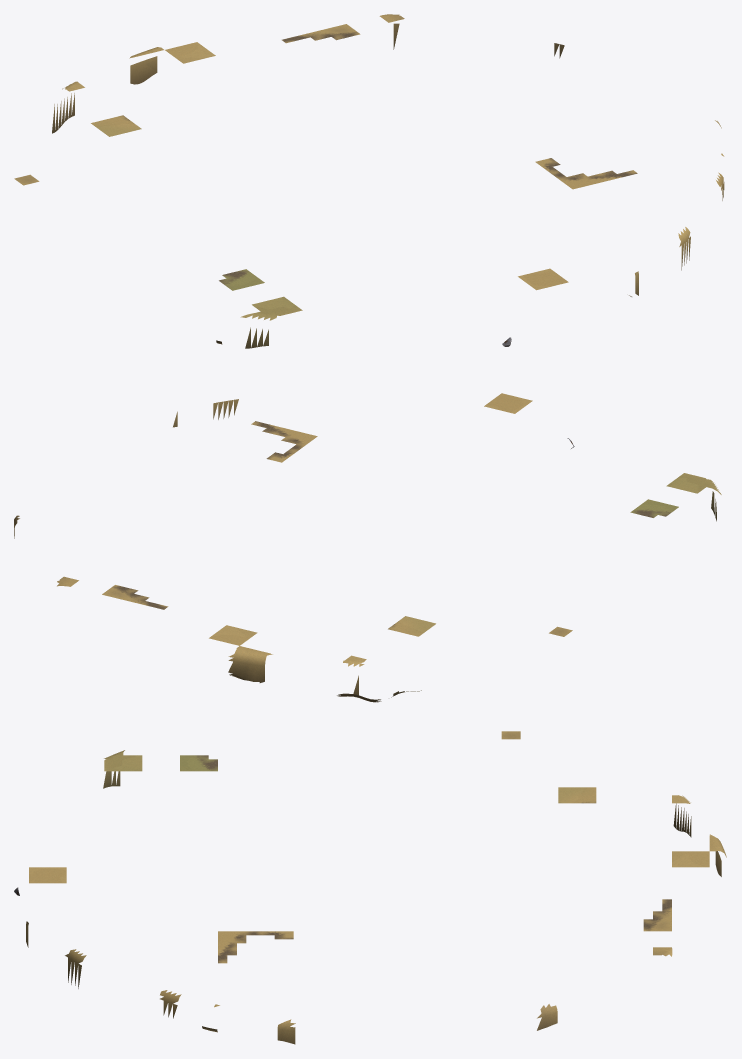
3 views of the same model, one above another, from view 1: azimuth 30°, elevation 25°; view 2: azimuth 150°, elevation 25°; view 3: azimuth 270°, elevation 25° (orthographic). The views are drawn at different scales.
Parts seen in each view (by area): view 1: Grass_2_-2_0, Grass_-1_4_0_010, Grass_1_3_0, Grass_-4_-4_0_110, Grass_-1_4_0_100, Grass_0_-5_0_010, Grass_-3_2_0_110, Grass_-4_-3_0_110; view 2: Grass_-1_4_0_010, Grass_2_-2_0, Grass_-4_-4_0_110, Grass_1_3_0, Grass_-1_4_0_100, Grass_0_-5_0_010, Grass_-3_2_0_110, Grass_-4_-3_0_110; view 3: Grass_2_-2_0, Grass_-4_-4_0_110, Grass_-3_2_0_110, Grass_1_3_0, Grass_-1_4_0_100, Grass_0_-5_0_010, Grass_-4_-3_0_110.
Boxes of the visible parts, x1=… form: Grass_2_-2_0: x1=535, y1=158, x2=637, y2=189; Grass_-1_4_0_010: x1=129, y1=47, x2=163, y2=84; Grass_1_3_0: x1=282, y1=24, x2=360, y2=43; Grass_-4_-4_0_110: x1=252, y1=296, x2=302, y2=320; Grass_-1_4_0_100: x1=165, y1=42, x2=215, y2=63; Grass_0_-5_0_010: x1=518, y1=268, x2=568, y2=290; Grass_-3_2_0_110: x1=91, y1=115, x2=141, y2=136; Grass_-4_-3_0_110: x1=219, y1=269, x2=264, y2=290; Grass_-1_4_0_010: x1=228, y1=646, x2=272, y2=682; Grass_2_-2_0: x1=251, y1=421, x2=317, y2=462; Grass_-4_-4_0_110: x1=666, y1=473, x2=714, y2=509; Grass_1_3_0: x1=102, y1=585, x2=168, y2=609; Grass_-1_4_0_100: x1=209, y1=625, x2=257, y2=645; Grass_0_-5_0_010: x1=484, y1=393, x2=532, y2=413; Grass_-3_2_0_110: x1=388, y1=616, x2=435, y2=636; Grass_-4_-3_0_110: x1=630, y1=499, x2=678, y2=517; Grass_2_-2_0: x1=218, y1=931, x2=293, y2=963; Grass_-4_-4_0_110: x1=103, y1=755, x2=142, y2=788; Grass_-3_2_0_110: x1=558, y1=787, x2=596, y2=803; Grass_1_3_0: x1=643, y1=899, x2=671, y2=931; Grass_-1_4_0_100: x1=672, y1=851, x2=709, y2=867; Grass_0_-5_0_010: x1=29, y1=867, x2=66, y2=883; Grass_-4_-3_0_110: x1=180, y1=755, x2=217, y2=771.
Size of the model in its own units: 582 by 43.18 by 604.
Materials: 24 (24 with a texture image).
